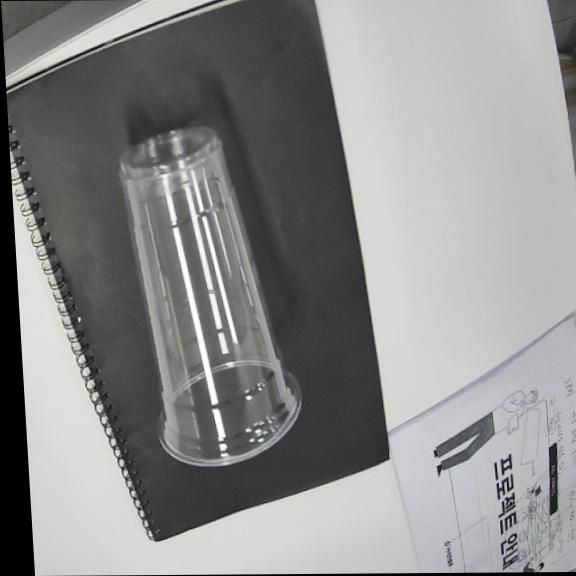Plastik: (119, 127, 300, 465)
